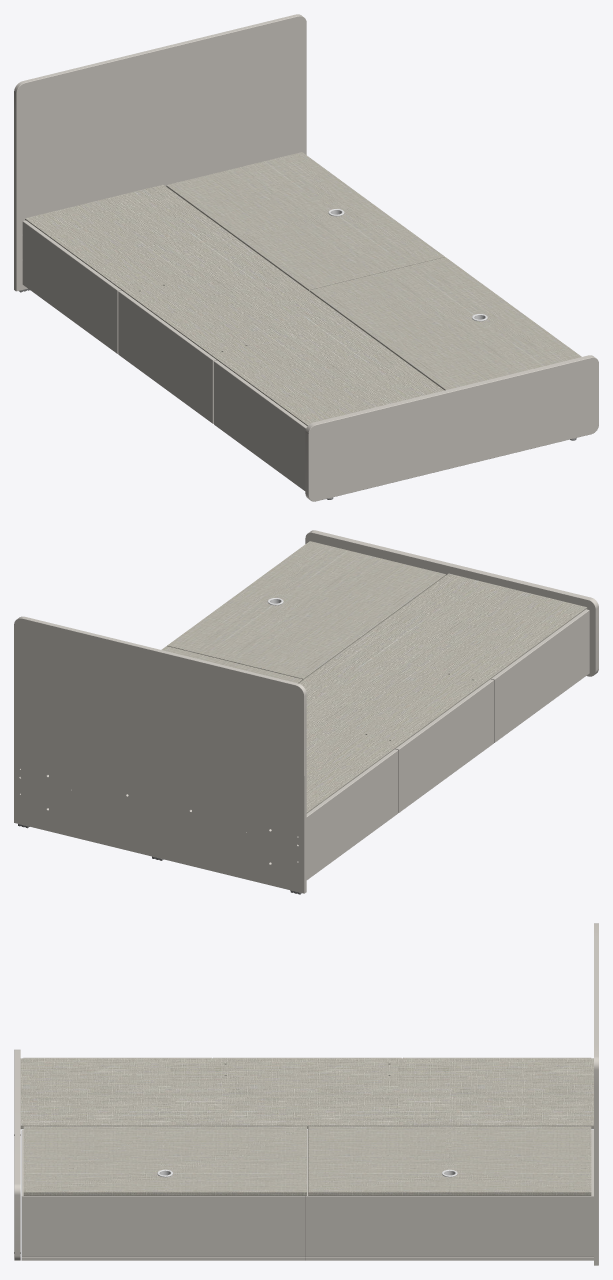
The model's file is AAIC00954.glb.
3 views of the same model, one above another, from view 1: azimuth 30°, elevation 25°; view 2: azimuth 150°, elevation 25°; view 3: azimuth 270°, elevation 25° (orthographic).
Visible parts, largest first — view 1: BP_AAIC00954; view 2: BP_AAIC00954; view 3: BP_AAIC00954.
Boxes of the visible parts, box(x1,y1,x2,y2) form: BP_AAIC00954: box(14, 14, 598, 501); BP_AAIC00954: box(14, 530, 598, 894); BP_AAIC00954: box(14, 923, 598, 1265).
Size of the model in its own units: 1.17 by 0.803 by 2.06.
Materials: 4 (1 with a texture image).
